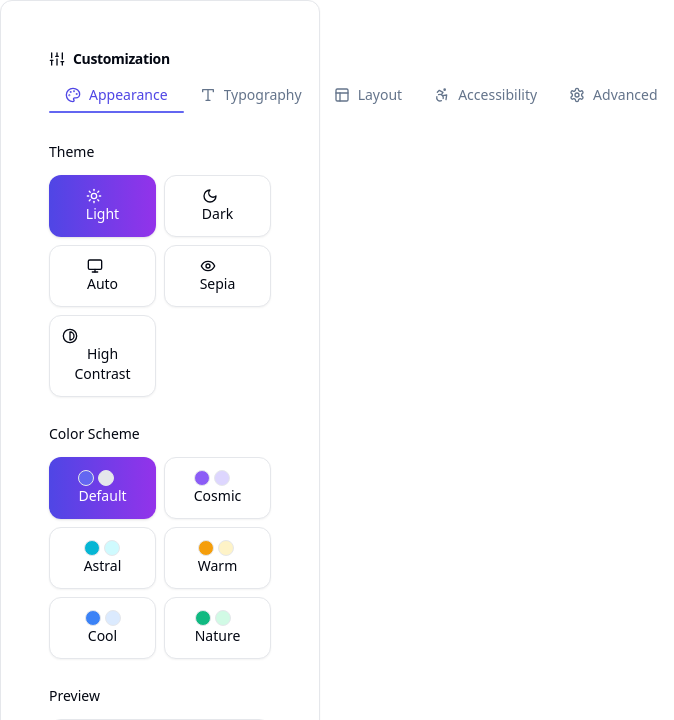
Test case: Enhanced Note Editor - Accessibility Tests › Large Text Support › should support large text mode
The width and height of the screenshot is (674, 720).
Should show large text is enabled
Click the tab "Typography".
click(251, 96)  # box [184,77,318,115]
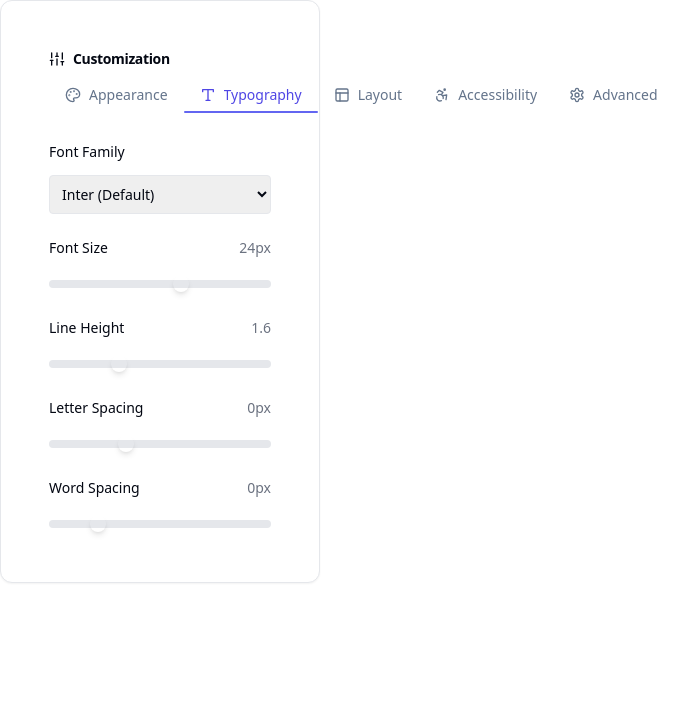
Expected: the text "24px" is shown, [239,238,271,258]
